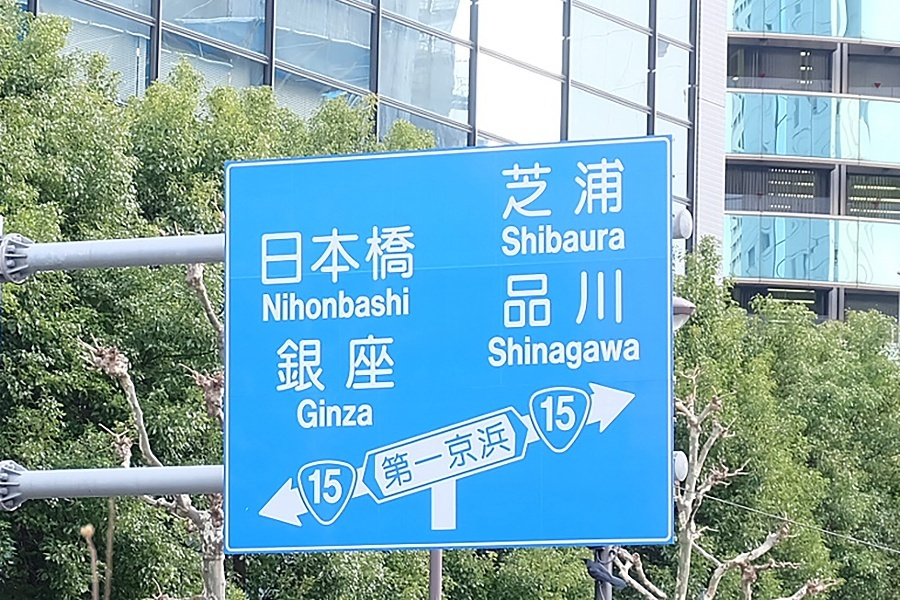text: (497, 421, 513, 494), (385, 421, 400, 494), (401, 421, 416, 494), (417, 421, 432, 494), (433, 421, 448, 494), (449, 421, 464, 494), (465, 421, 480, 494), (481, 421, 496, 494), (513, 158, 528, 221), (529, 158, 544, 221), (545, 158, 560, 221), (561, 158, 576, 221), (577, 158, 592, 221), (593, 158, 608, 221), (609, 158, 624, 221), (273, 226, 288, 288), (289, 226, 304, 288), (305, 226, 320, 288), (321, 226, 336, 288), (337, 226, 352, 288), (353, 226, 368, 288), (369, 226, 384, 288), (385, 226, 400, 288), (401, 226, 416, 288), (513, 267, 528, 329), (529, 267, 544, 329), (545, 267, 560, 329), (561, 267, 576, 329), (577, 267, 592, 329), (593, 267, 608, 329), (609, 267, 624, 329), (289, 335, 304, 393), (305, 335, 320, 393), (321, 335, 336, 393), (337, 335, 352, 393), (353, 335, 368, 393), (369, 335, 384, 393), (259, 226, 272, 288), (276, 335, 288, 393), (501, 158, 512, 221), (385, 335, 396, 393), (305, 467, 320, 506), (321, 467, 336, 506), (545, 395, 560, 433), (561, 395, 576, 433), (625, 336, 641, 371), (503, 267, 512, 329), (273, 288, 288, 324), (289, 288, 304, 324), (305, 288, 320, 324), (321, 288, 336, 324), (337, 288, 352, 324), (353, 288, 368, 324), (369, 288, 384, 324), (385, 288, 400, 324), (513, 222, 528, 258), (529, 222, 544, 258), (545, 222, 560, 258), (561, 222, 576, 258), (577, 222, 592, 258), (593, 222, 608, 258), (609, 222, 624, 258), (497, 336, 512, 371), (513, 336, 528, 371), (529, 336, 544, 371), (545, 336, 560, 371), (561, 336, 576, 371), (577, 336, 592, 371), (593, 336, 608, 371), (609, 336, 624, 371), (305, 398, 320, 430), (321, 398, 336, 430), (337, 398, 352, 430), (353, 398, 368, 430), (262, 288, 272, 324), (401, 288, 411, 324), (502, 222, 512, 258), (487, 336, 496, 371), (337, 467, 343, 506), (381, 421, 384, 494), (298, 398, 304, 430), (369, 398, 375, 430), (542, 395, 544, 433), (625, 222, 626, 258)
